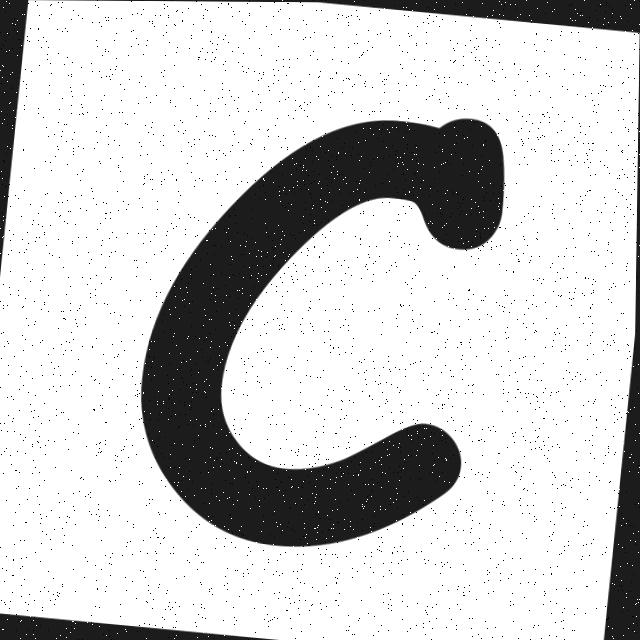C: (142, 117, 504, 546)
